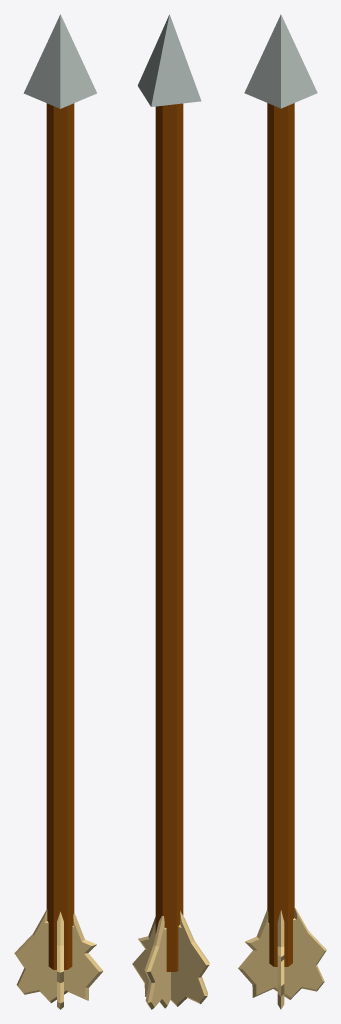
The model's file is Arrow.fbx.
3 views of the same model, side by side, from view 1: azimuth 90°, elevation 25°; view 2: azimuth 150°, elevation 25°; view 3: azimuth 270°, elevation 25° (orthographic).
Parts seen in each view (by area): view 1: Plane.002; view 2: Plane.002; view 3: Plane.002.
Boxes of the visible parts, left/top/right/bottom form: Plane.002: left=14, top=14, right=103, bottom=1009; Plane.002: left=132, top=14, right=209, bottom=1009; Plane.002: left=238, top=14, right=326, bottom=1009.
Bounding box in the file's own units: 19.36 × 237 × 19.36.
